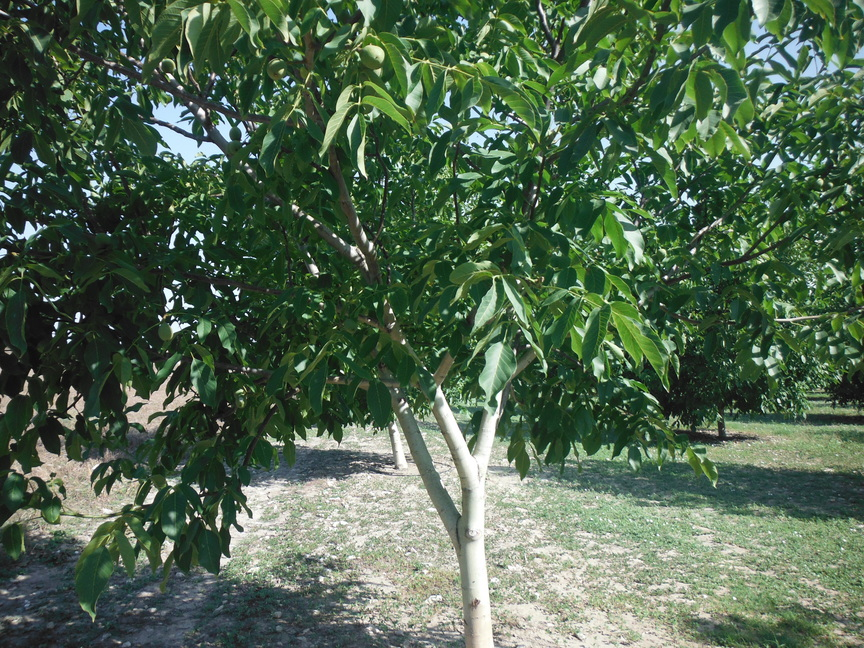walnut: (355, 40, 395, 73), (262, 54, 293, 84), (90, 228, 117, 256), (155, 315, 179, 346), (29, 334, 58, 359), (363, 65, 388, 84), (340, 315, 362, 336), (160, 55, 178, 78), (806, 174, 827, 192), (539, 129, 558, 148), (227, 124, 246, 142), (416, 144, 437, 160), (160, 203, 178, 220), (229, 139, 245, 157), (360, 140, 378, 156), (236, 394, 251, 413), (160, 191, 177, 207), (222, 138, 235, 158), (379, 232, 395, 248), (821, 177, 839, 191), (230, 385, 249, 398), (655, 245, 668, 261), (647, 250, 661, 264)
